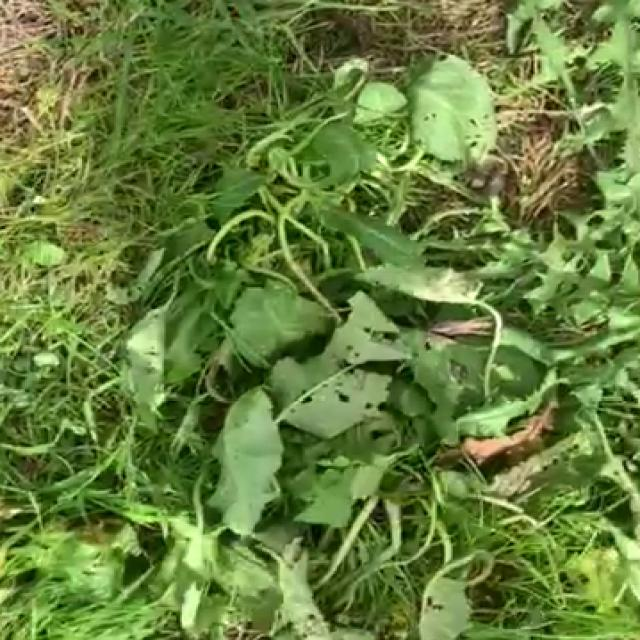organic waste: (162, 52, 554, 461), (52, 304, 520, 578)
